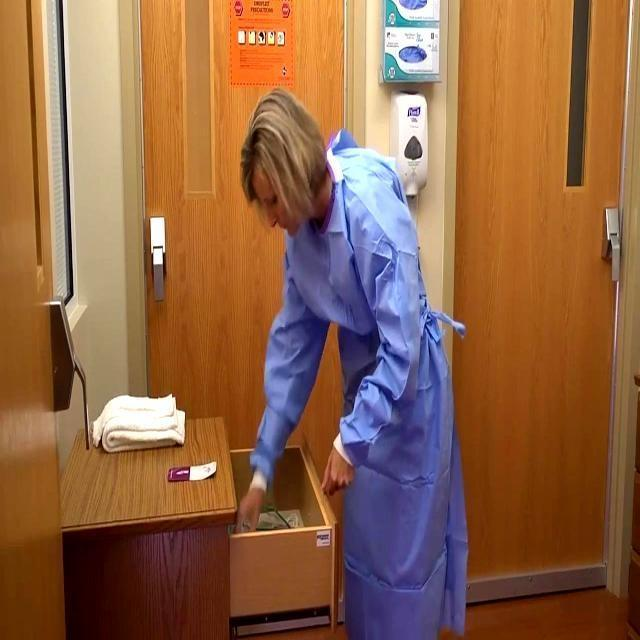no_gloves: (241, 88, 331, 170)
no_hairnet: (260, 190, 313, 227)
